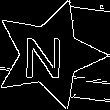N_N: (28, 29, 71, 80)
